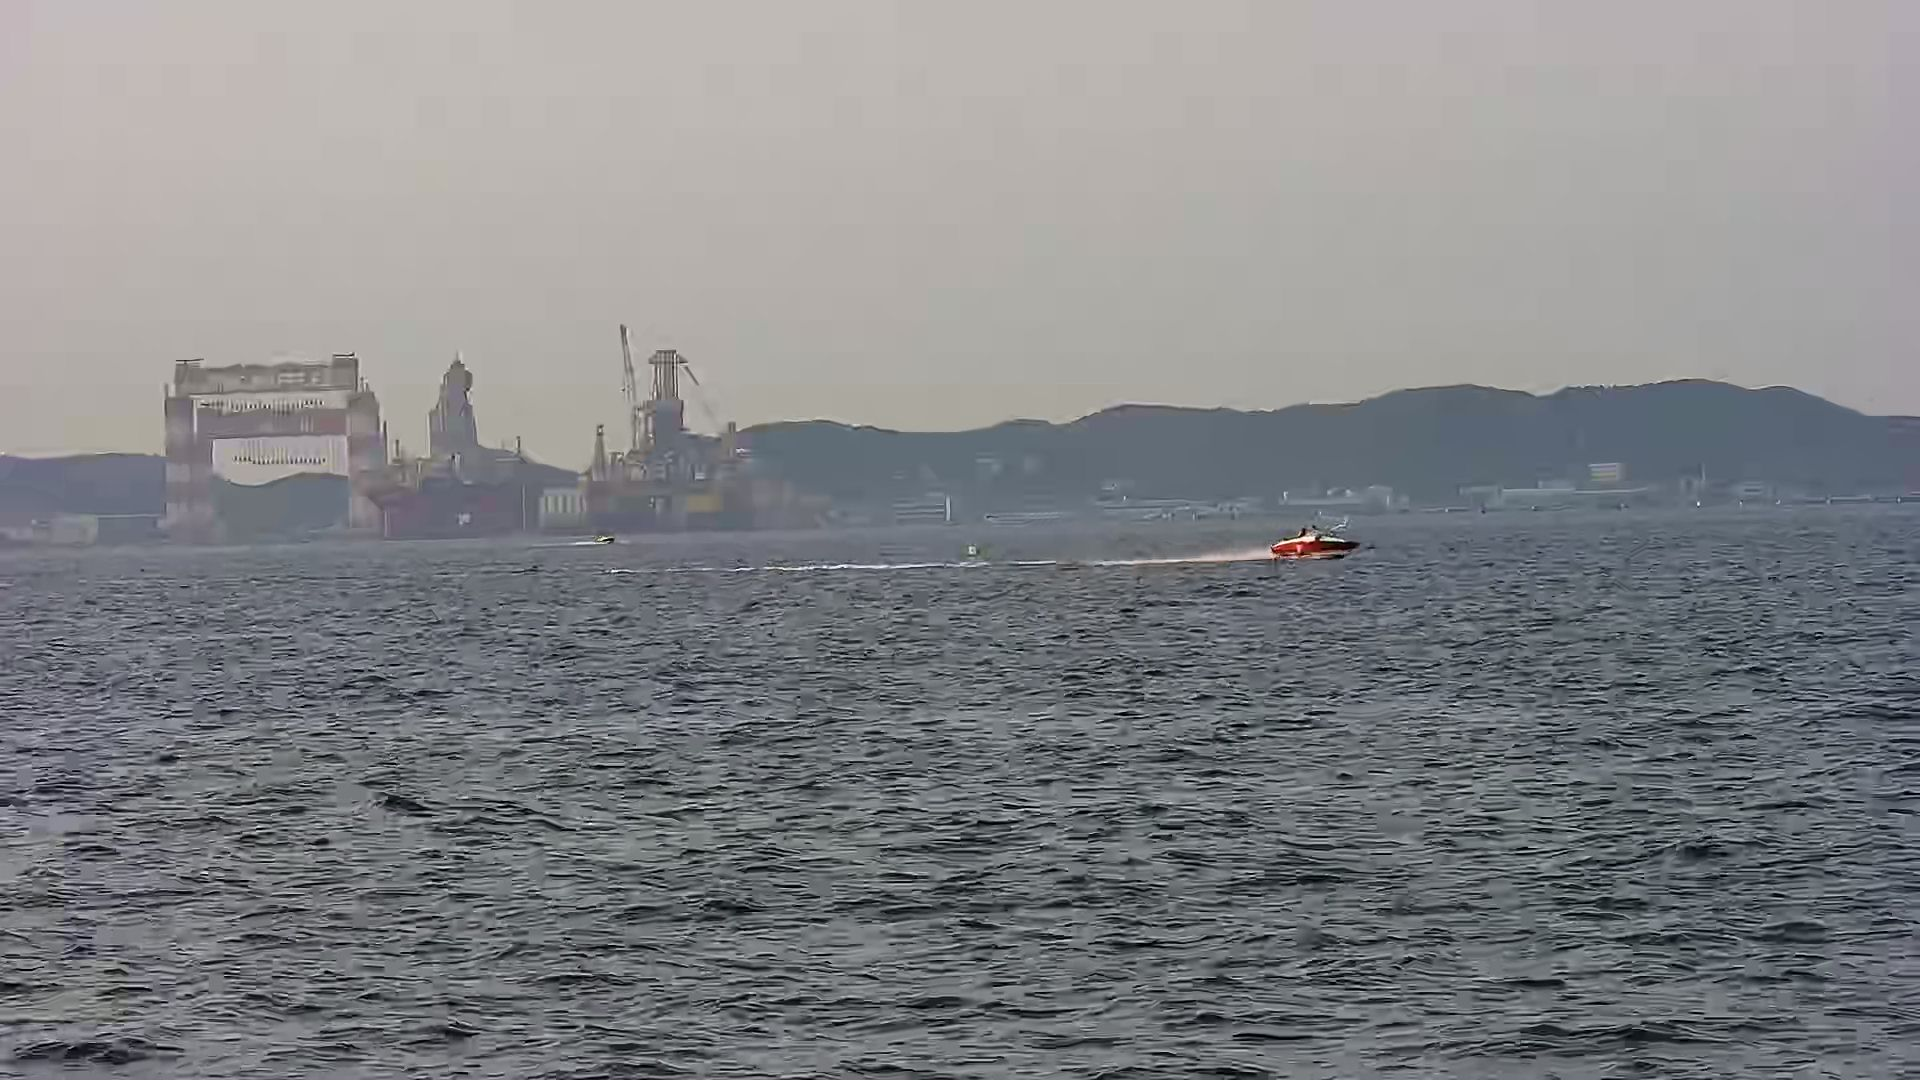boat: (1259, 512, 1366, 560)
